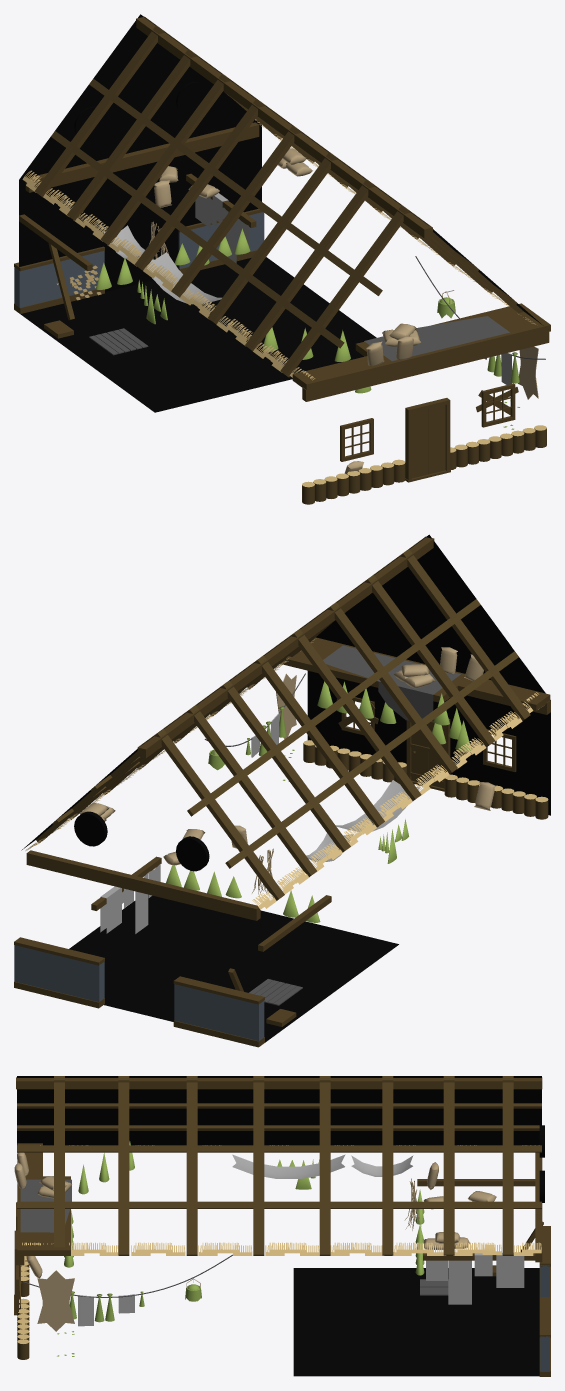
File: Cabin_Blockout_12.fbx
3 renders of one model, top to bottom at view 1: azimuth 30°, elevation 25°; view 2: azimuth 150°, elevation 25°; view 3: azimuth 270°, elevation 25°, orthographic. The views are drawn at different scales.
Visible parts, largest first — view 1: polySurface3601; view 2: polySurface3601; view 3: polySurface3601.
Boxes of the visible parts, x1=… form: polySurface3601: x1=14, y1=14, x2=550, y2=504; polySurface3601: x1=14, y1=534, x2=550, y2=1047; polySurface3601: x1=14, y1=1076, x2=550, y2=1376.
Size of the model in its own units: 866 by 914 by 1801.
